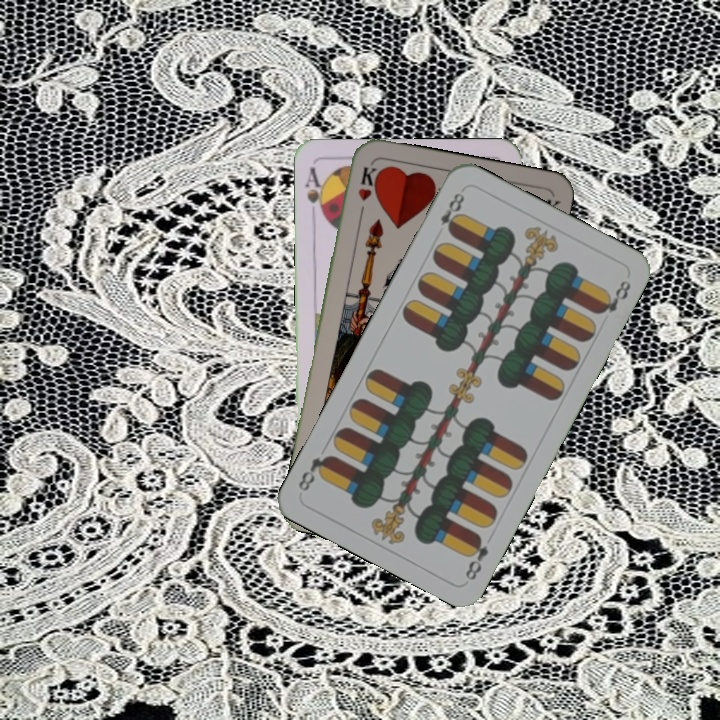E8: (435, 186, 468, 237), (461, 530, 492, 583)
HK: (354, 162, 380, 221)
SA: (301, 164, 328, 223)
